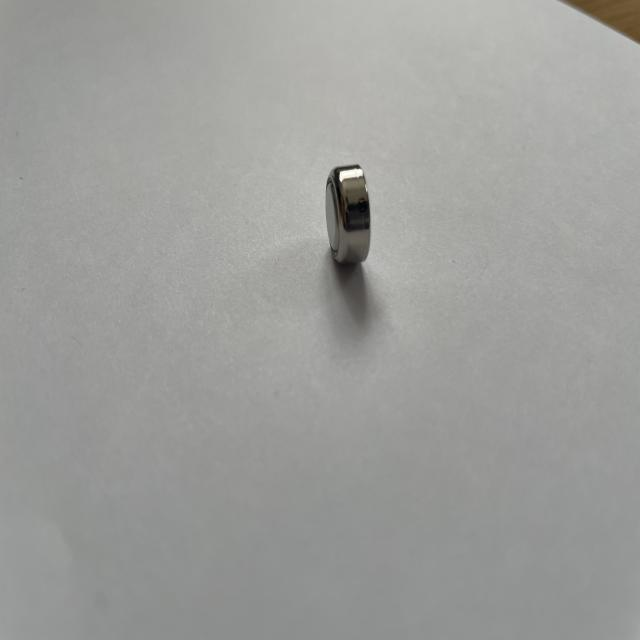COIN: (324, 162, 373, 266)
